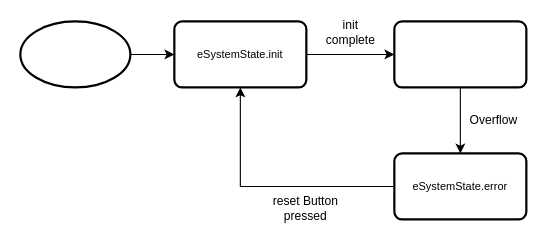
The diagram is 546 pixels wide and 242 high, and some of its shapes have lost their labels. The shapes that lost their labels are listed below. From the top down, each one's centre as x and y in pixels, then its label:
At [75,54]: "State: eSystemState.none".
At [460,54]: "eSystemState.run".
